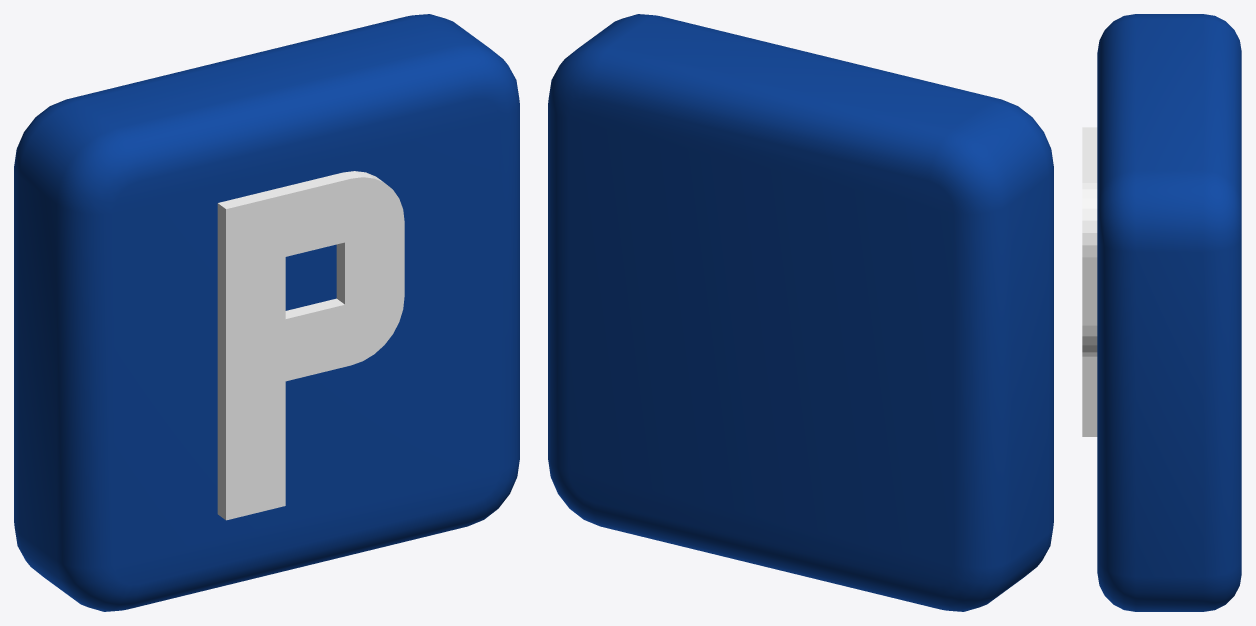
Rendered from p_button.glb.
The picture shows the model from 3 angles, left to right: view 1: azimuth 30°, elevation 25°; view 2: azimuth 150°, elevation 25°; view 3: azimuth 270°, elevation 25°; orthographic projection. The views are drawn at different scales.
Parts seen in each view (by area): view 1: Cube.6647, Cube.6646; view 2: Cube.6647; view 3: Cube.6647, Cube.6646.
Boxes of the visible parts, bbox=[...] form: Cube.6647: bbox=[14, 14, 519, 611]; Cube.6646: bbox=[217, 171, 404, 520]; Cube.6647: bbox=[548, 14, 1053, 611]; Cube.6647: bbox=[1097, 14, 1241, 611]; Cube.6646: bbox=[1082, 127, 1097, 436].
Bounding box in the file's own units: 2.2 × 2.2 × 0.73.
Materials: 1 (1 with a texture image).
